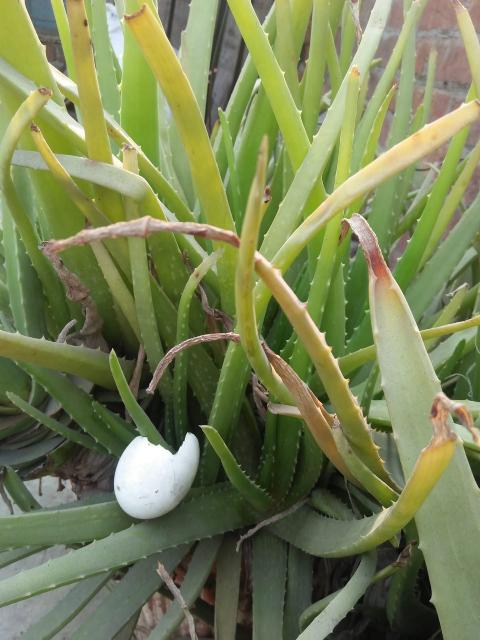Roto: (113, 431, 200, 520)
